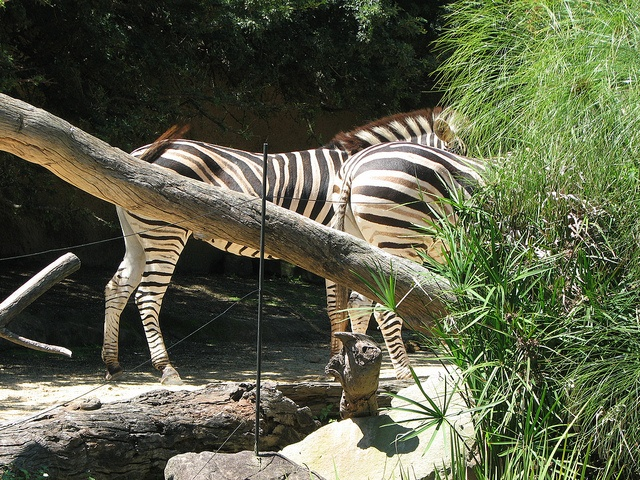zebra: (295, 248, 640, 480), (434, 263, 640, 480)
